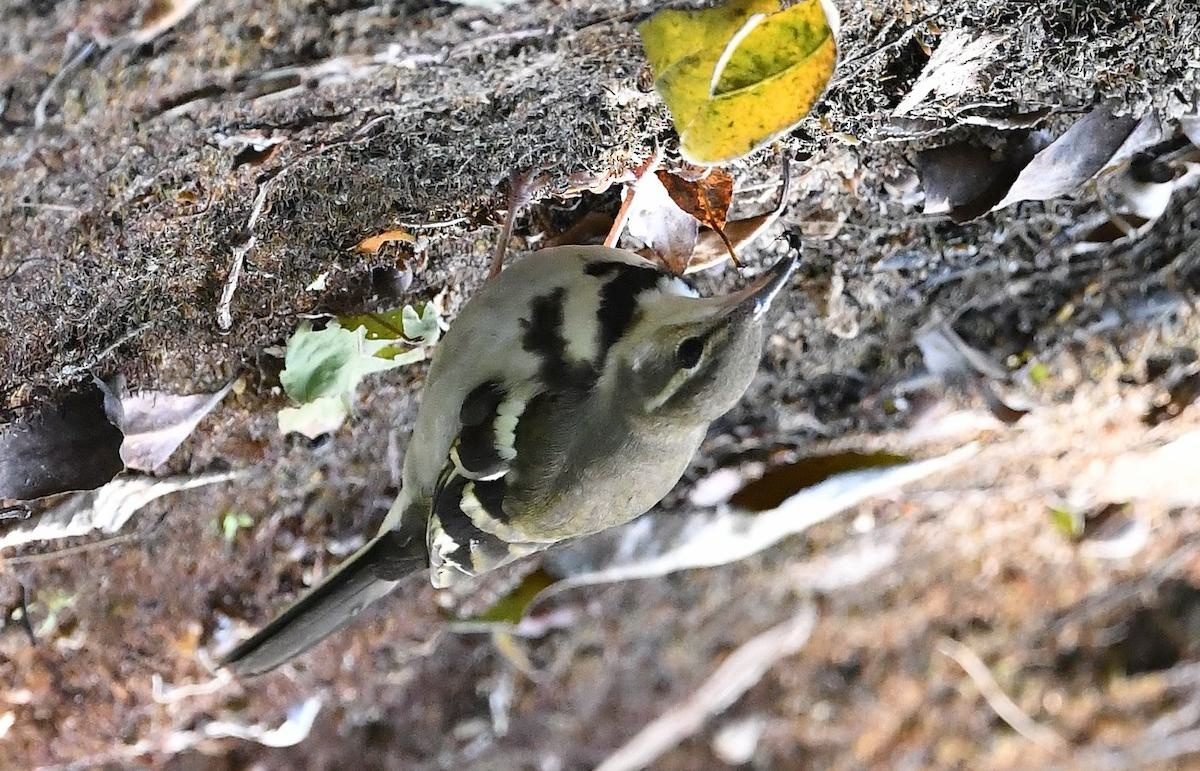wagtail: (306, 185, 847, 633)
